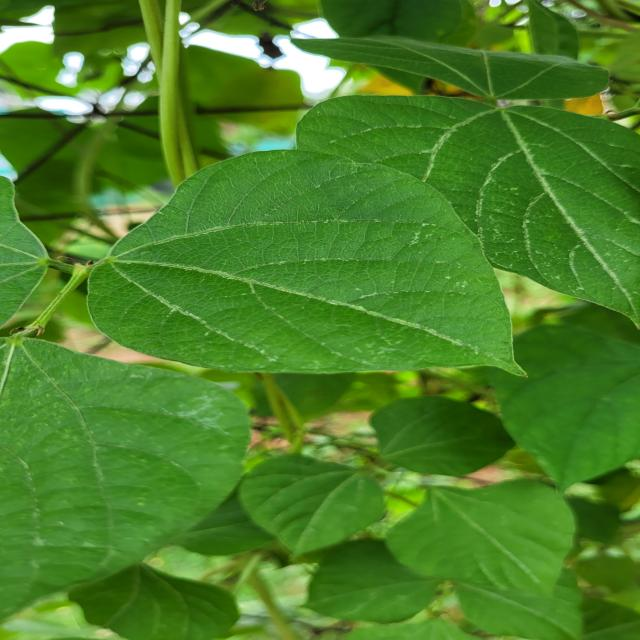Dolicos bean_healthy: (80, 149, 524, 378), (294, 87, 640, 316), (3, 329, 255, 628), (466, 292, 640, 493), (384, 478, 603, 602), (221, 456, 402, 554), (283, 526, 447, 629), (356, 384, 526, 474)
